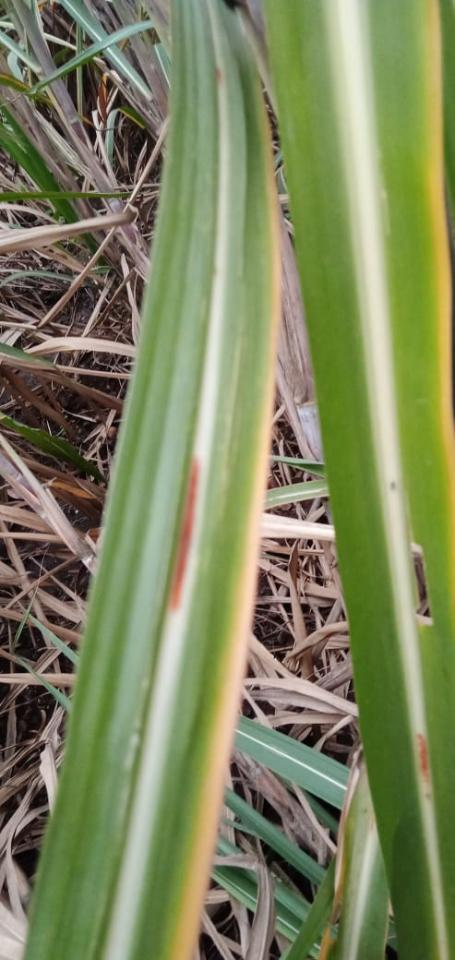RedRot: (163, 445, 204, 626), (416, 730, 431, 787), (214, 62, 226, 88), (422, 789, 434, 802)
Yellow: (168, 67, 281, 959), (425, 1, 454, 636)
